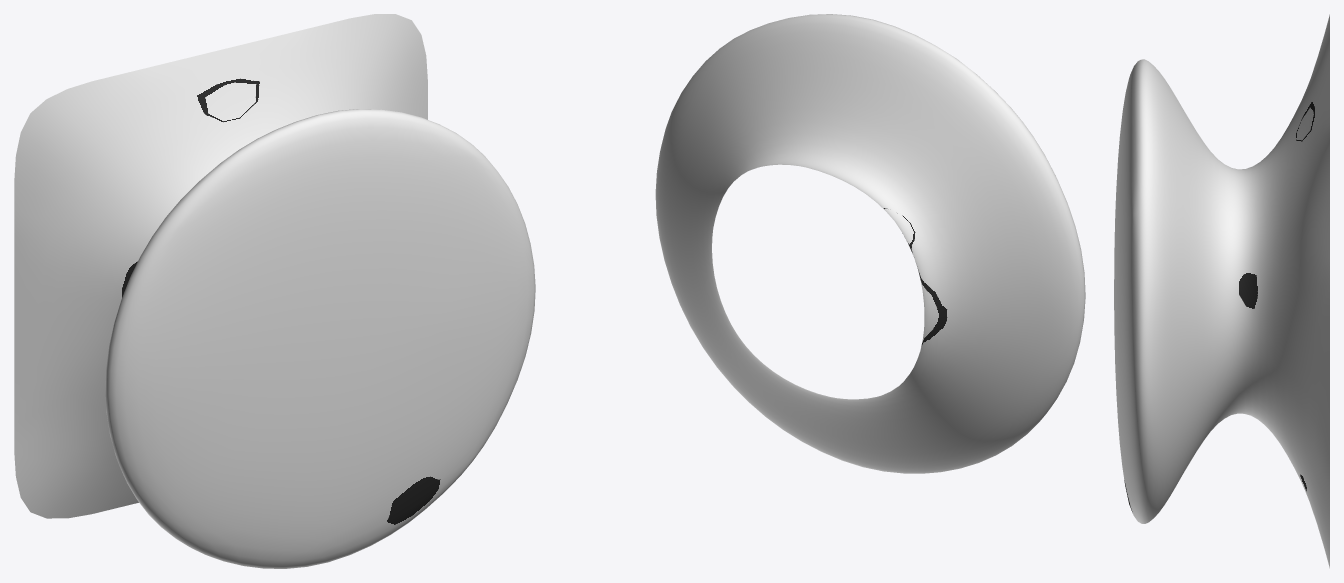
Rendered from cgalref_mushroom_cgal_authalic_result.glb.
The picture shows the model from 3 angles, left to right: view 1: azimuth 30°, elevation 25°; view 2: azimuth 150°, elevation 25°; view 3: azimuth 270°, elevation 25°; orthographic projection. The views are drawn at different scales.
Visible parts, largest first — view 1: parameterized; view 2: parameterized; view 3: parameterized.
Boxes of the visible parts, x1=… form: parameterized: x1=14, y1=14, x2=535, y2=568; parameterized: x1=655, y1=14, x2=1085, y2=473; parameterized: x1=1114, y1=14, x2=1329, y2=568.
Size of the model in its own units: 99.98 by 100 by 46.4.
Materials: 1 (1 with a texture image).
